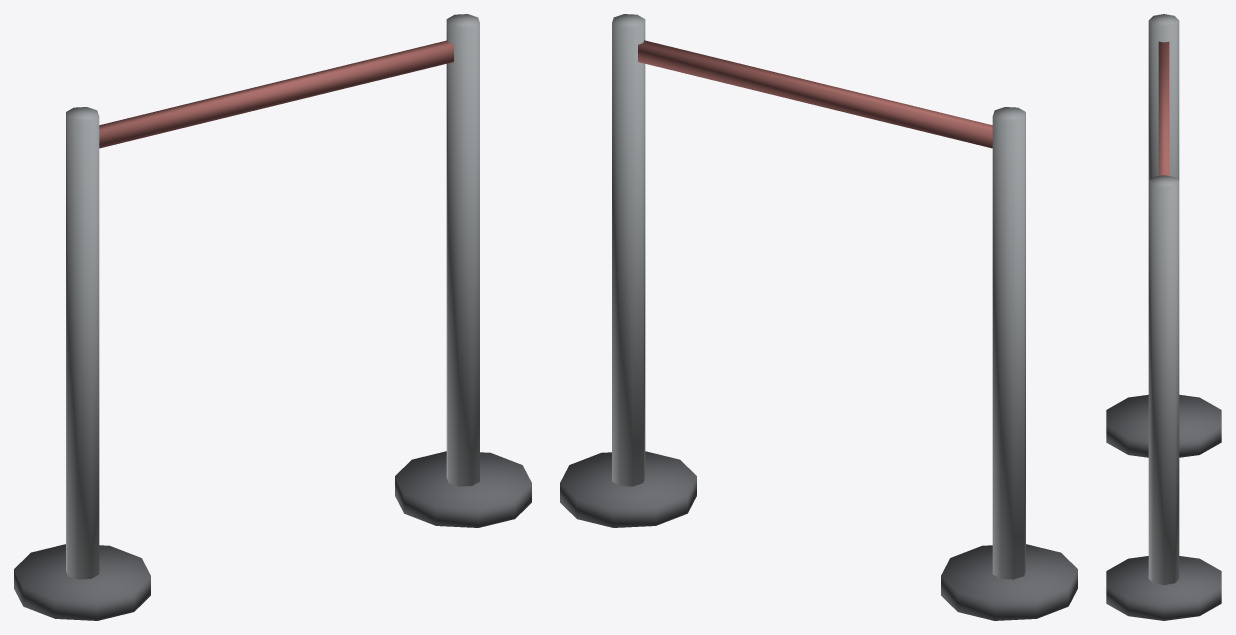
File: queue_stanchion__compact.glb
3 renders of one model, left to right at view 1: azimuth 30°, elevation 25°; view 2: azimuth 150°, elevation 25°; view 3: azimuth 270°, elevation 25°, orthographic. The views are drawn at different scales.
Parts seen in each view (by area): view 1: world; view 2: world; view 3: world.
Boxes of the visible parts, left/top/right/bottom form: world: left=14, top=14, right=531, bottom=620; world: left=560, top=14, right=1077, bottom=620; world: left=1106, top=14, right=1221, bottom=620.
Size of the model in its own units: 0.9912 by 0.9068 by 0.229.
